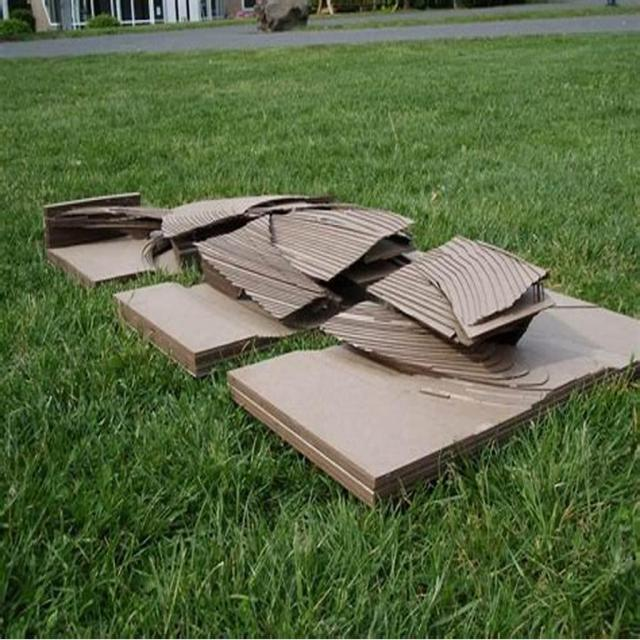cardboard: (46, 192, 640, 510)
